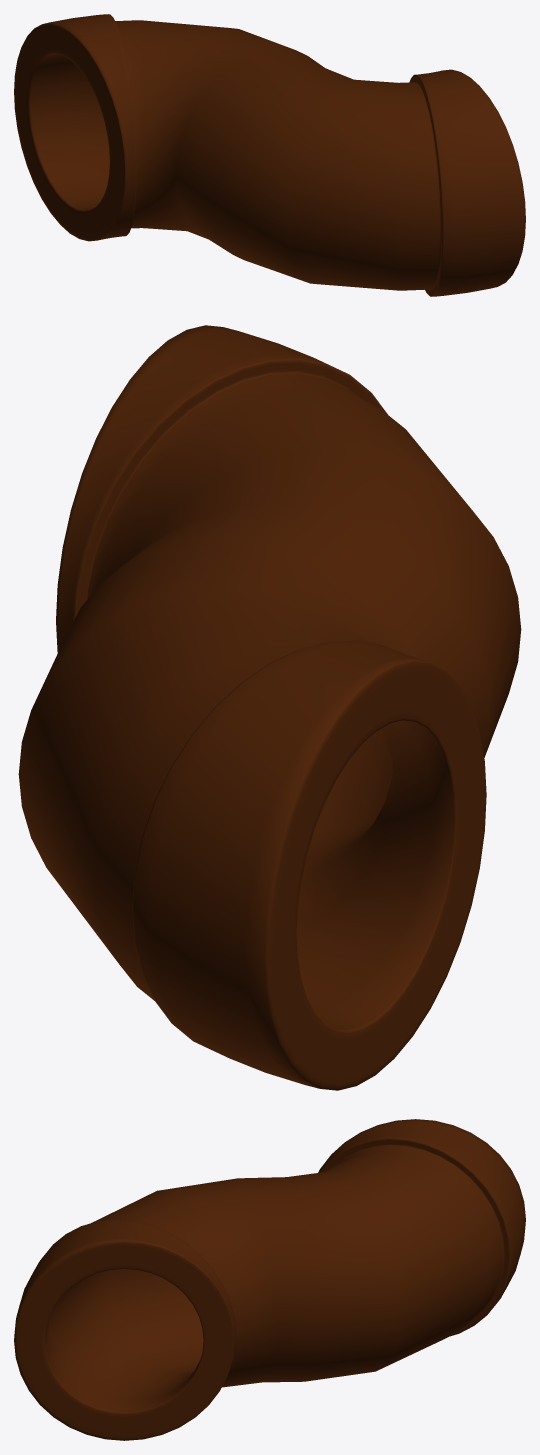
File: pipe_v1_offset.FBX
3 views of the same model, one above another, from view 1: azimuth 30°, elevation 25°; view 2: azimuth 150°, elevation 25°; view 3: azimuth 270°, elevation 25° (orthographic). The views are drawn at different scales.
Parts seen in each view (by area): view 1: Pipe_offset; view 2: Pipe_offset; view 3: Pipe_offset.
Boxes of the visible parts, x1,y1,x2,y2 form: Pipe_offset: (14, 14, 525, 296); Pipe_offset: (18, 325, 521, 1090); Pipe_offset: (14, 1119, 525, 1440).
Bounding box in the file's own units: 121 × 91.68 × 213.
